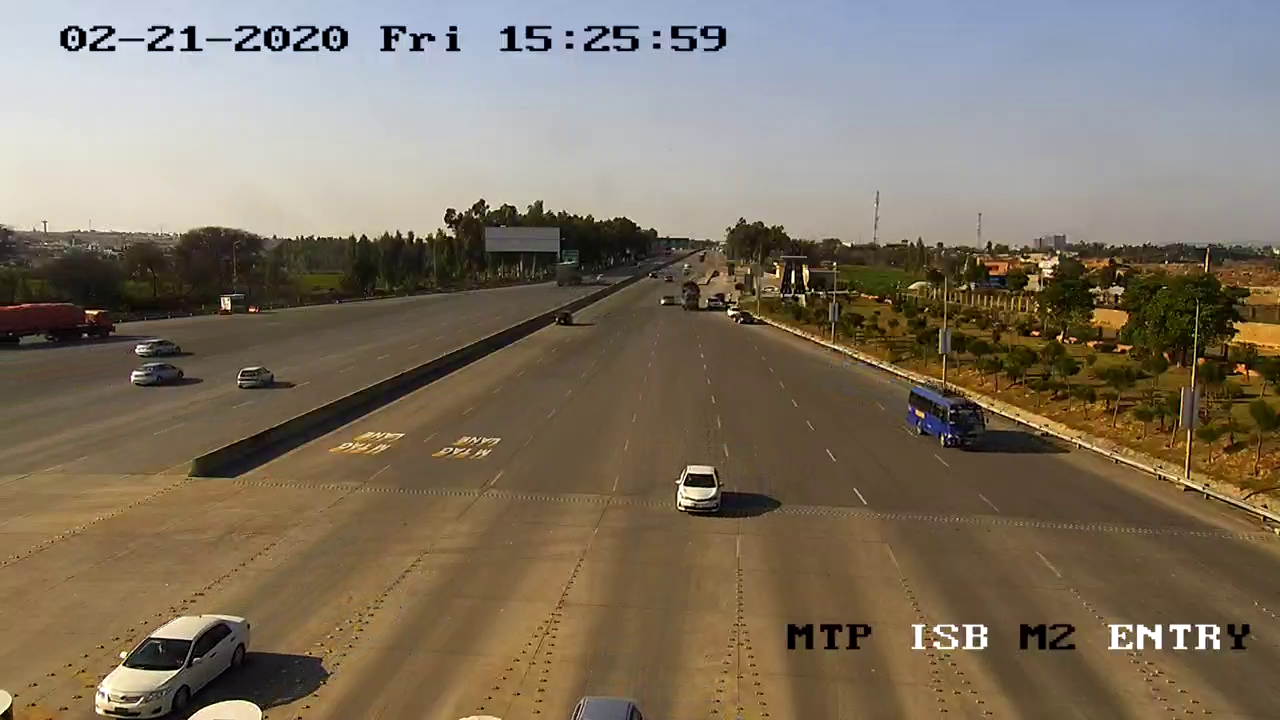f1: (670, 458, 726, 523)
f3: (905, 375, 1000, 459)
